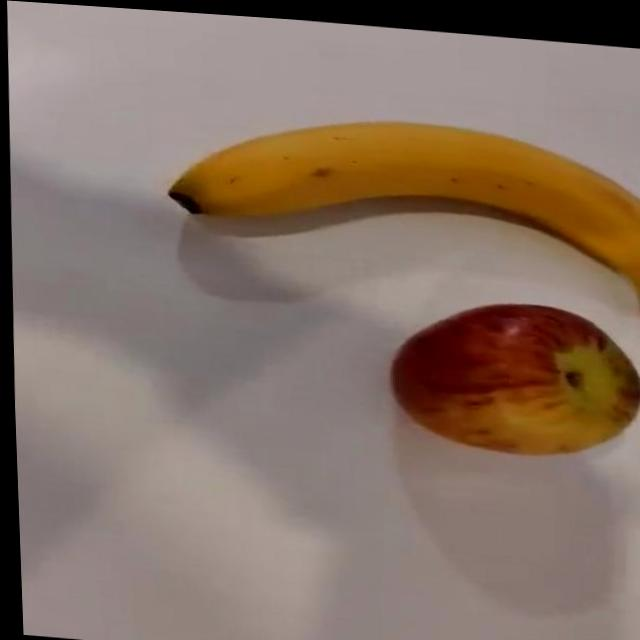Apple: (382, 287, 640, 458)
Banana: (162, 99, 640, 315)
